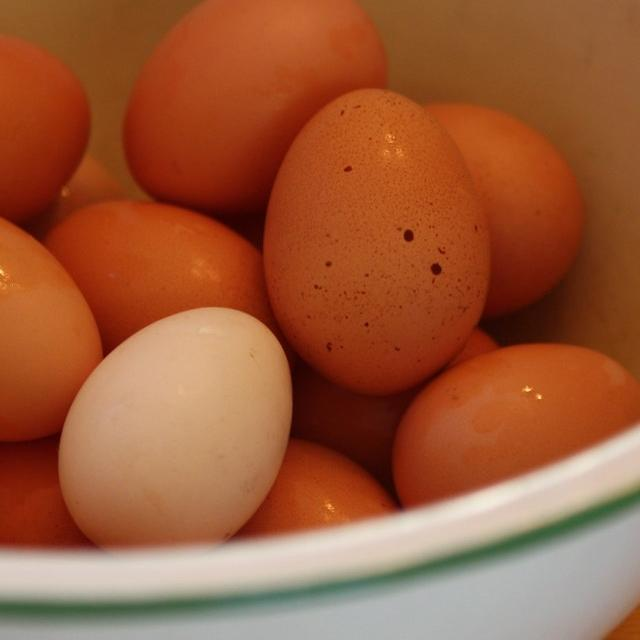egg: (262, 87, 492, 395), (57, 305, 293, 548), (121, 0, 388, 214), (391, 341, 640, 509), (43, 198, 273, 353), (422, 101, 585, 317), (0, 202, 103, 442), (0, 29, 91, 226), (232, 438, 398, 541), (0, 437, 92, 548)
